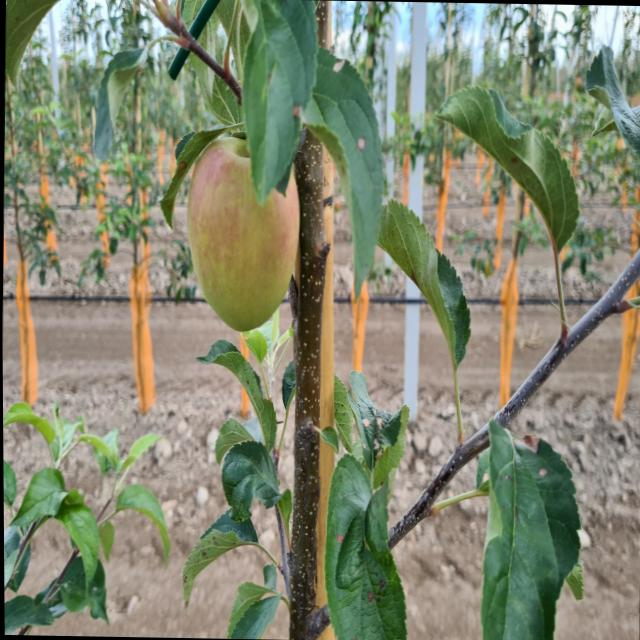Apple: (187, 136, 298, 330)
